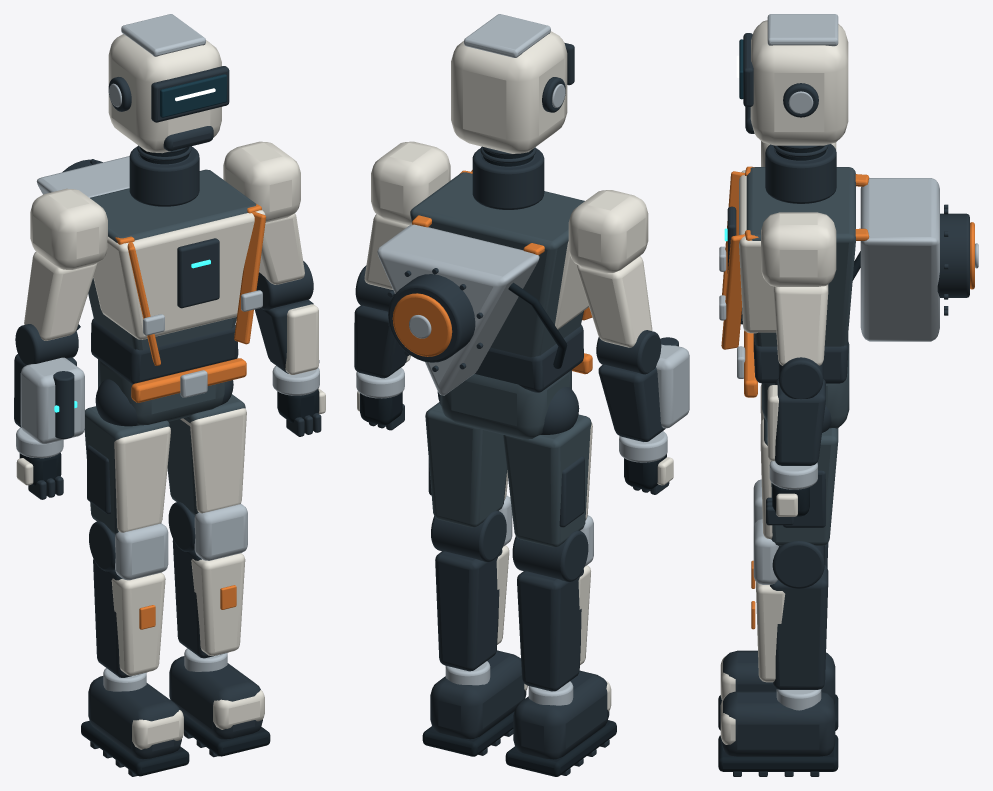
Rendered from Courier.fbx.
The picture shows the model from 3 angles, left to right: view 1: azimuth 30°, elevation 25°; view 2: azimuth 150°, elevation 25°; view 3: azimuth 270°, elevation 25°; orthographic projection. The views are drawn at different scales.
Parts seen in each view (by area): view 1: GFCG_ChestShell, GFCG_TorsoUndersuit, GFCG_HelmetShell, GFCG_ShoulderCap_R, GFCG_ThighPlate_L, GFCG_ThighPlate_R, GFCG_WaistArmor, GFCG_ShoulderCap_L, GFCG_UpperArm_R, GFCG_Boot_R, GFCG_Boot_L, GFCG_ShinArmor_R (+41 smaller); view 2: GFCG_TorsoUndersuit, GFCG_TriangularPack, GFCG_HelmetShell, GFCG_ThighUndersuit_L, GFCG_ThighUndersuit_R, GFCG_ShinCore_R, GFCG_ShinCore_L, GFCG_ShoulderCap_R, GFCG_PelvisCore, GFCG_Boot_R, GFCG_Boot_L, GFCG_ShoulderCap_L (+28 smaller); view 3: GFCG_TriangularPack, GFCG_HelmetShell, GFCG_TorsoUndersuit, GFCG_Boot_L, GFCG_ShoulderCap_L, GFCG_ShinCore_L, GFCG_UpperArm_L, GFCG_Forearm_L, GFCG_NeckCollar, GFCG_ChestShell, GFCG_SpoolAxle, GFCG_HelmetCrown (+22 smaller).
Part boxes in pixels (bbox=[...]): GFCG_ChestShell: bbox=[93, 210, 265, 339]; GFCG_TorsoUndersuit: bbox=[88, 169, 256, 350]; GFCG_HelmetShell: bbox=[108, 34, 221, 153]; GFCG_ShoulderCap_R: bbox=[30, 188, 107, 269]; GFCG_ThighPlate_L: bbox=[180, 408, 246, 513]; GFCG_ThighPlate_R: bbox=[114, 426, 170, 532]; GFCG_WaistArmor: bbox=[91, 318, 238, 384]; GFCG_ShoulderCap_L: bbox=[223, 141, 300, 222]; GFCG_UpperArm_R: bbox=[24, 251, 97, 340]; GFCG_Boot_R: bbox=[88, 676, 181, 759]; GFCG_Boot_L: bbox=[169, 656, 262, 739]; GFCG_ShinArmor_R: bbox=[111, 572, 165, 675]; GFCG_TorsoUndersuit: bbox=[410, 172, 584, 357]; GFCG_TriangularPack: bbox=[377, 224, 539, 395]; GFCG_HelmetShell: bbox=[451, 31, 567, 153]; GFCG_ThighUndersuit_L: bbox=[425, 402, 506, 527]; GFCG_ThighUndersuit_R: bbox=[503, 414, 591, 547]; GFCG_ShinCore_R: bbox=[517, 569, 583, 691]; GFCG_ShinCore_L: bbox=[435, 549, 502, 671]; GFCG_ShoulderCap_R: bbox=[568, 190, 648, 273]; GFCG_PelvisCore: bbox=[440, 370, 571, 439]; GFCG_Boot_R: bbox=[513, 670, 609, 759]; GFCG_Boot_L: bbox=[430, 650, 526, 739]; GFCG_ShoulderCap_L: bbox=[371, 141, 450, 224]; GFCG_TriangularPack: bbox=[860, 178, 939, 341]; GFCG_HelmetShell: bbox=[750, 20, 848, 145]; GFCG_TorsoUndersuit: bbox=[746, 167, 855, 346]; GFCG_Boot_L: bbox=[721, 691, 835, 756]; GFCG_ShoulderCap_L: bbox=[761, 212, 836, 286]; GFCG_ShinCore_L: bbox=[770, 565, 828, 689]; GFCG_UpperArm_L: bbox=[773, 284, 828, 365]; GFCG_Forearm_L: bbox=[775, 378, 825, 465]; GFCG_NeckCollar: bbox=[765, 144, 836, 203]; GFCG_ChestShell: bbox=[739, 170, 776, 333]; GFCG_SpoolAxle: bbox=[937, 213, 969, 297]; GFCG_HelmetCrown: bbox=[767, 14, 838, 46].
Bounding box in the file's own units: 0.896 × 2 × 0.655.
